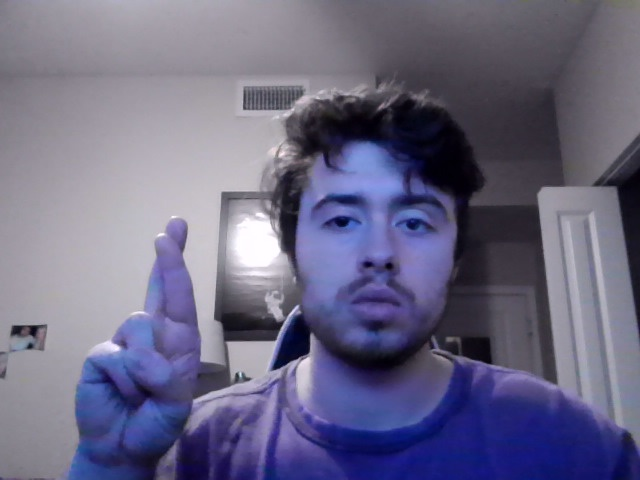r: (75, 216, 201, 477)
